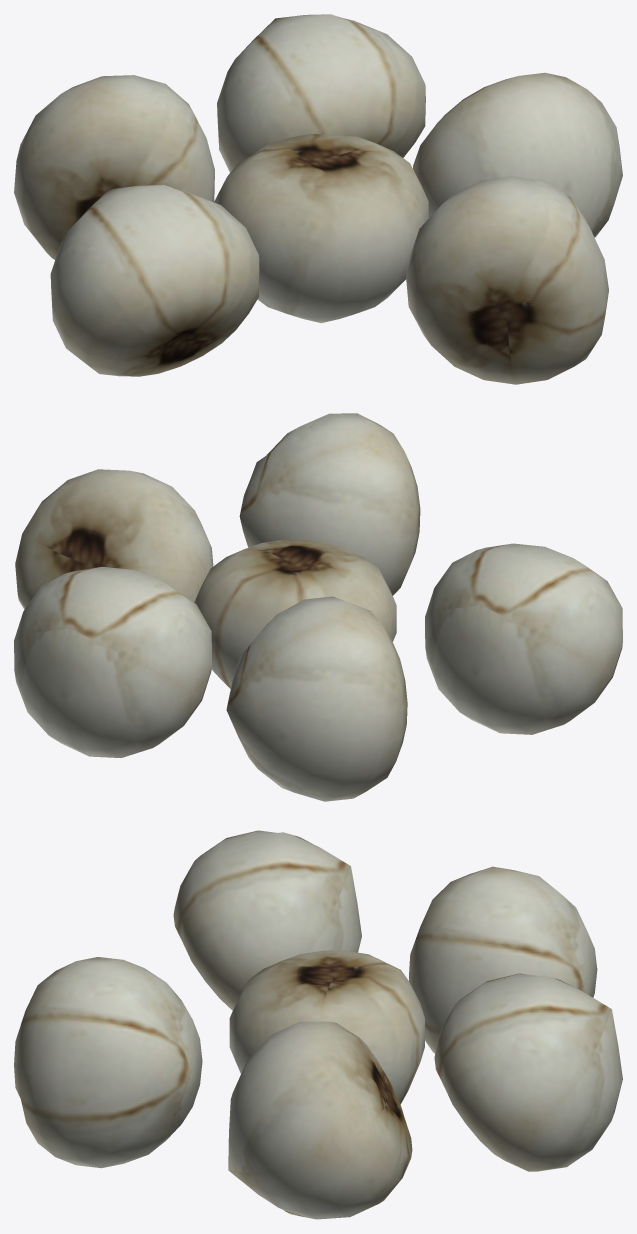
Rendered from songbei.FBX.
The picture shows the model from 3 angles, top to bottom: view 1: azimuth 30°, elevation 25°; view 2: azimuth 150°, elevation 25°; view 3: azimuth 270°, elevation 25°; orthographic projection. The views are drawn at different scales.
Parts seen in each view (by area): view 1: Sphere005, Sphere006, Sphere001, Sphere003, Sphere004, Sphere002; view 2: Sphere006, Sphere003, Sphere004, Sphere005, Sphere002, Sphere001; view 3: Sphere005, Sphere003, Sphere002, Sphere006, Sphere004, Sphere001.
Boxes of the visible parts, x1,y1,x2,y2 form: Sphere005: (406, 176, 608, 384); Sphere006: (50, 185, 259, 376); Sphere001: (214, 133, 428, 323); Sphere003: (217, 14, 425, 172); Sphere004: (14, 75, 214, 259); Sphere002: (413, 72, 622, 237); Sphere006: (425, 543, 622, 734); Sphere003: (14, 566, 211, 757); Sphere004: (226, 596, 407, 801); Sphere005: (239, 413, 420, 595); Sphere002: (15, 469, 213, 609); Sphere001: (194, 539, 396, 688); Sphere005: (14, 957, 202, 1168); Sphere003: (434, 973, 622, 1171); Sphere002: (228, 1021, 412, 1219); Sphere006: (173, 830, 361, 1010); Sphere004: (409, 866, 597, 1053); Sphere001: (229, 950, 424, 1104).
Size of the model in its own units: 102 by 35.16 by 94.72.
1 material, 1 textured.
